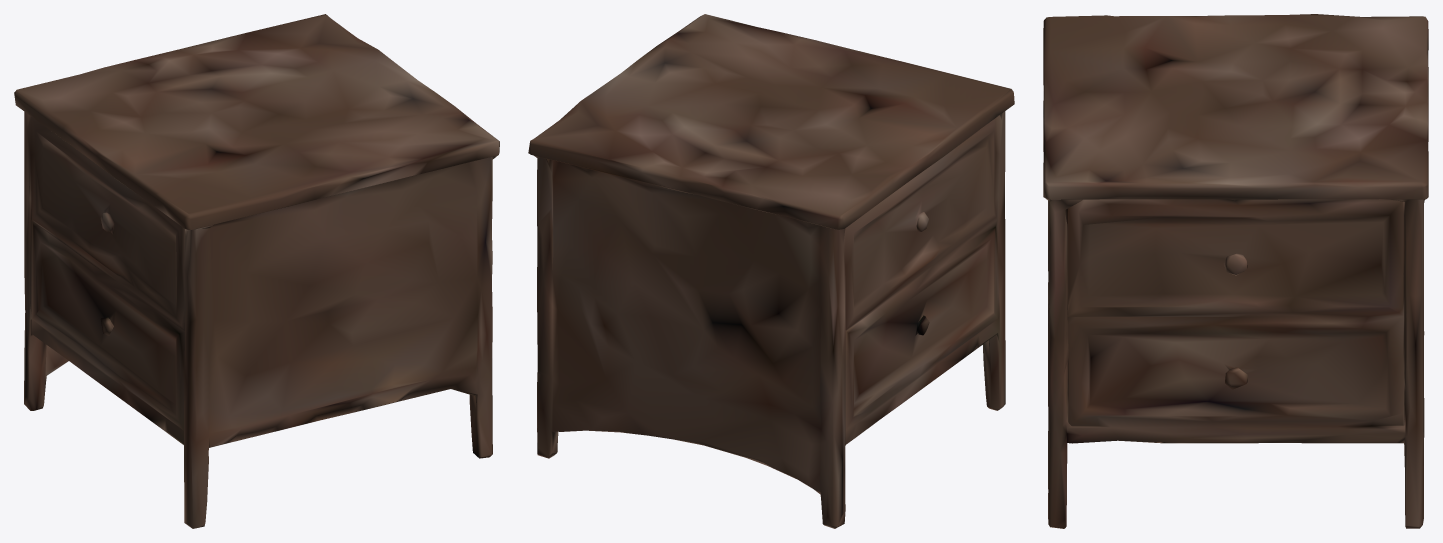
Rendered from mesita.glb.
3 renders of one model, left to right at view 1: azimuth 30°, elevation 25°; view 2: azimuth 150°, elevation 25°; view 3: azimuth 270°, elevation 25°, orthographic. The views are drawn at different scales.
Parts seen in each view (by area): view 1: tripo_node_8a4b670c-7d27-46c7-b40d-43c169919a8b; view 2: tripo_node_8a4b670c-7d27-46c7-b40d-43c169919a8b; view 3: tripo_node_8a4b670c-7d27-46c7-b40d-43c169919a8b.
Part boxes in pixels (bbox=[...]): tripo_node_8a4b670c-7d27-46c7-b40d-43c169919a8b: bbox=[14, 14, 499, 528]; tripo_node_8a4b670c-7d27-46c7-b40d-43c169919a8b: bbox=[528, 14, 1014, 528]; tripo_node_8a4b670c-7d27-46c7-b40d-43c169919a8b: bbox=[1043, 14, 1428, 528].
Size of the model in its own units: 0.9999 by 0.9473 by 0.9372.
